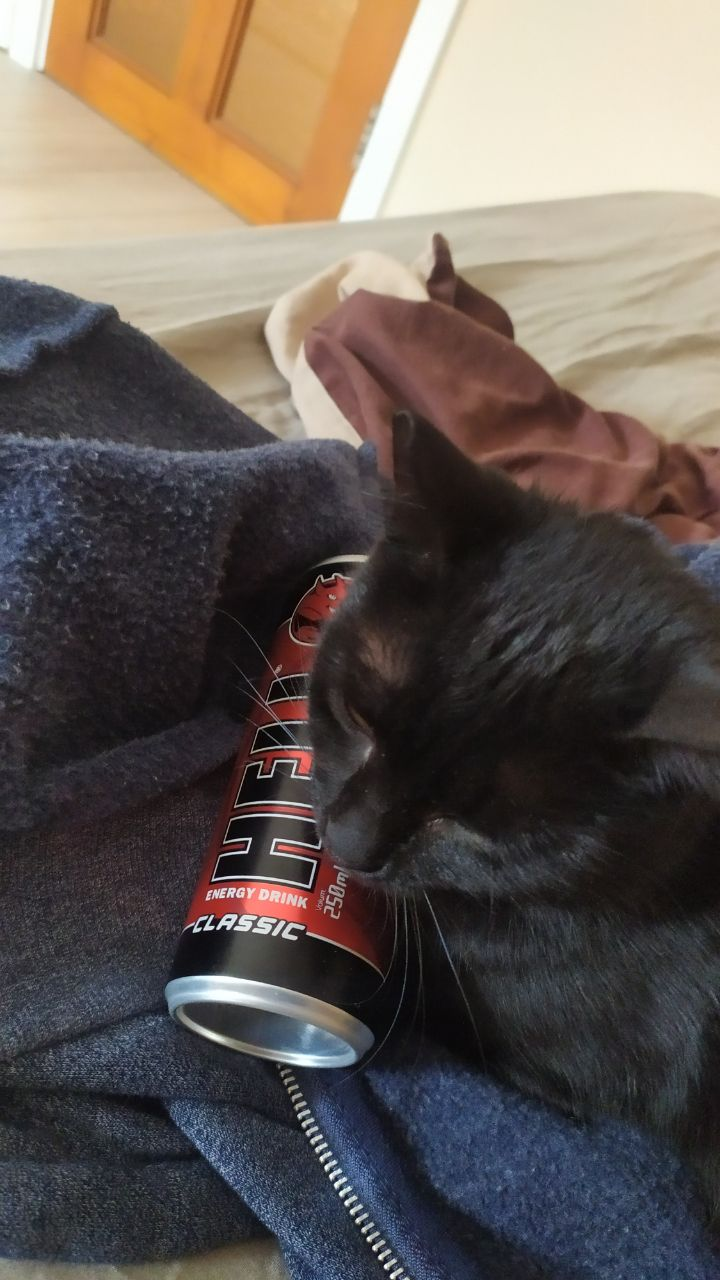Can: (161, 549, 415, 1077)
